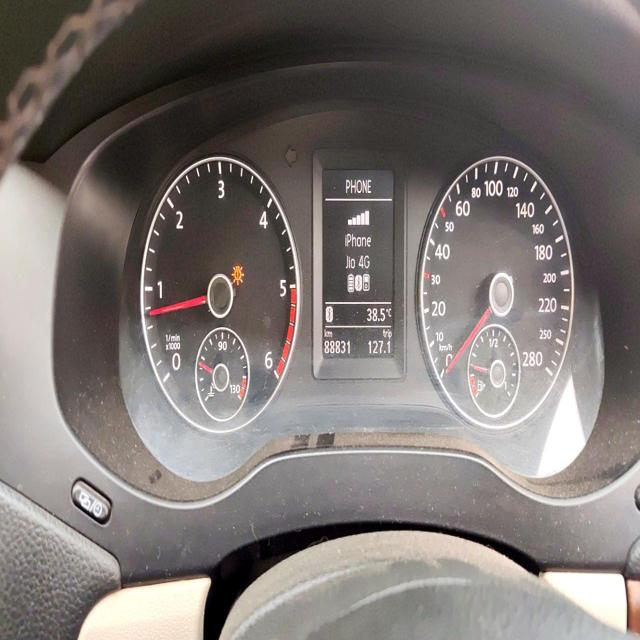odometer: (322, 336, 356, 363)
